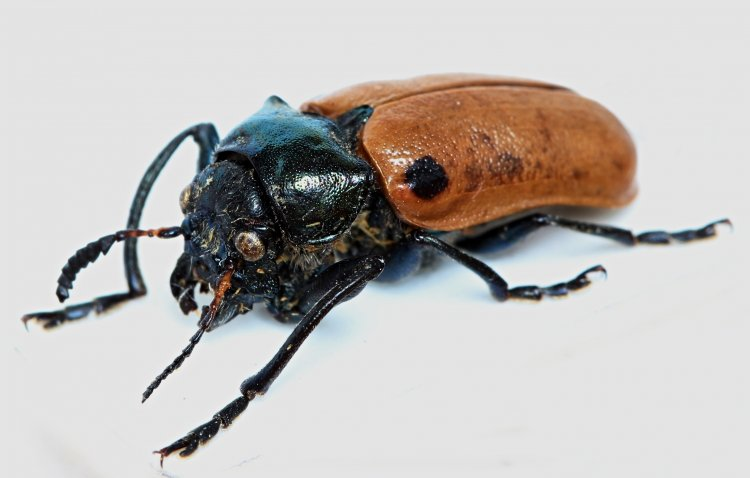Labidostomis_asiatica: (5, 38, 747, 478)
